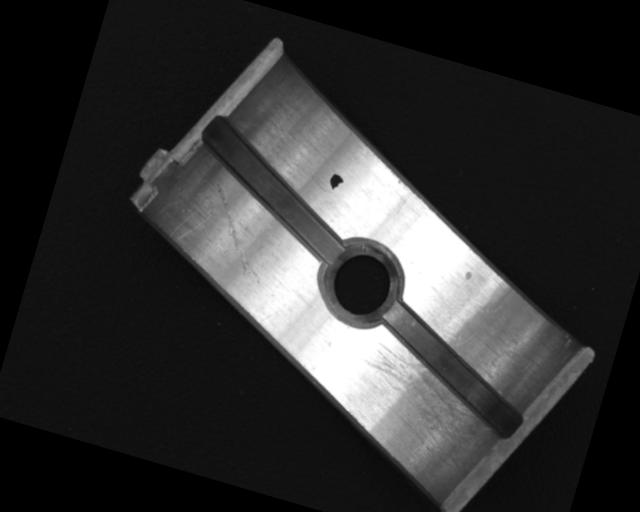blot: (327, 172, 346, 192)
bruise: (463, 270, 473, 282)
gap: (177, 112, 367, 266), (361, 298, 543, 440)
hole: (313, 234, 409, 334)
nick: (191, 181, 285, 285)
scratch: (328, 332, 507, 474)
